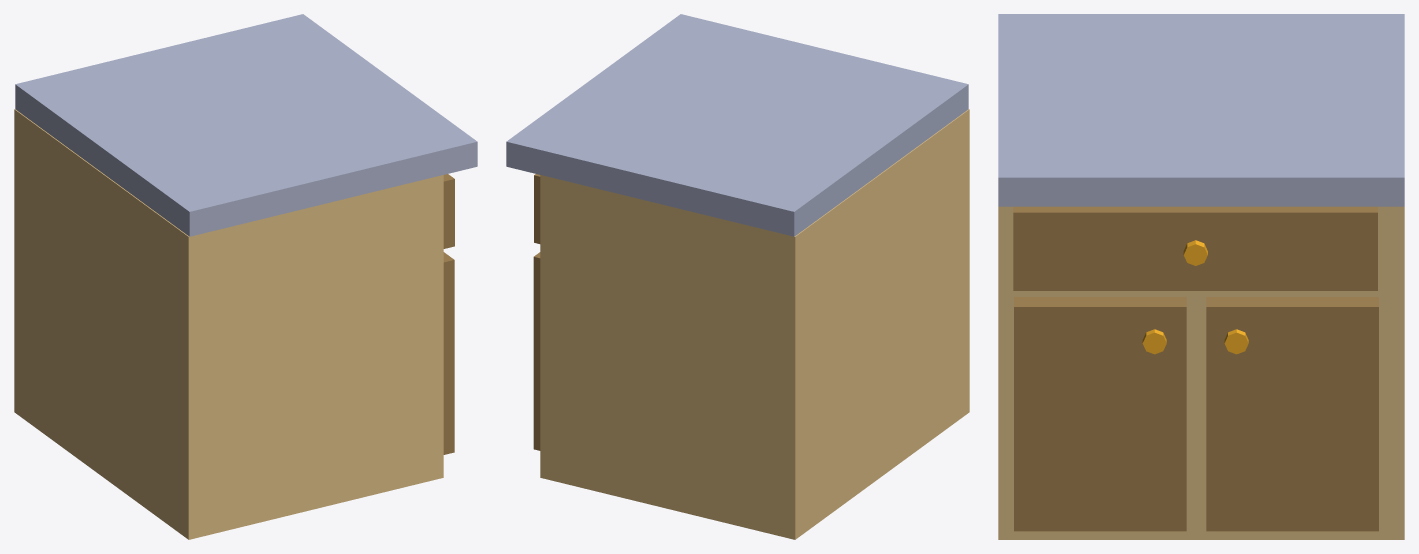
The model's file is KitchenCounter.fbx.
The picture shows the model from 3 angles, left to right: view 1: azimuth 30°, elevation 25°; view 2: azimuth 150°, elevation 25°; view 3: azimuth 270°, elevation 25°; orthographic projection. The views are drawn at different scales.
Parts seen in each view (by area): view 1: Cube.005, Cube.006, Cube.007, Cube.009; view 2: Cube.005, Cube.006, Cube.008; view 3: Cube.006, Cube.007, Cube.008, Cube.009, Cube.005, Cylinder.005, Cylinder.004.
Part boxes in pixels (<box>): Cube.005: <box>14,109,443,539</box>; Cube.006: <box>15,14,477,236</box>; Cube.007: <box>443,252,454,454</box>; Cube.009: <box>443,174,454,248</box>; Cube.005: <box>540,109,969,539</box>; Cube.006: <box>506,14,968,236</box>; Cube.008: <box>533,252,540,450</box>; Cube.006: <box>998,14,1404,206</box>; Cube.007: <box>1014,297,1186,531</box>; Cube.008: <box>1206,297,1378,531</box>; Cube.009: <box>1013,206,1377,290</box>; Cube.005: <box>998,206,1404,539</box>; Cylinder.005: <box>1183,240,1207,265</box>; Cylinder.004: <box>1224,329,1248,354</box>.
Bounding box in the file's own units: 81.57 × 85.32 × 88.47.
